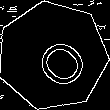O_NW: (20, 23, 86, 89)
